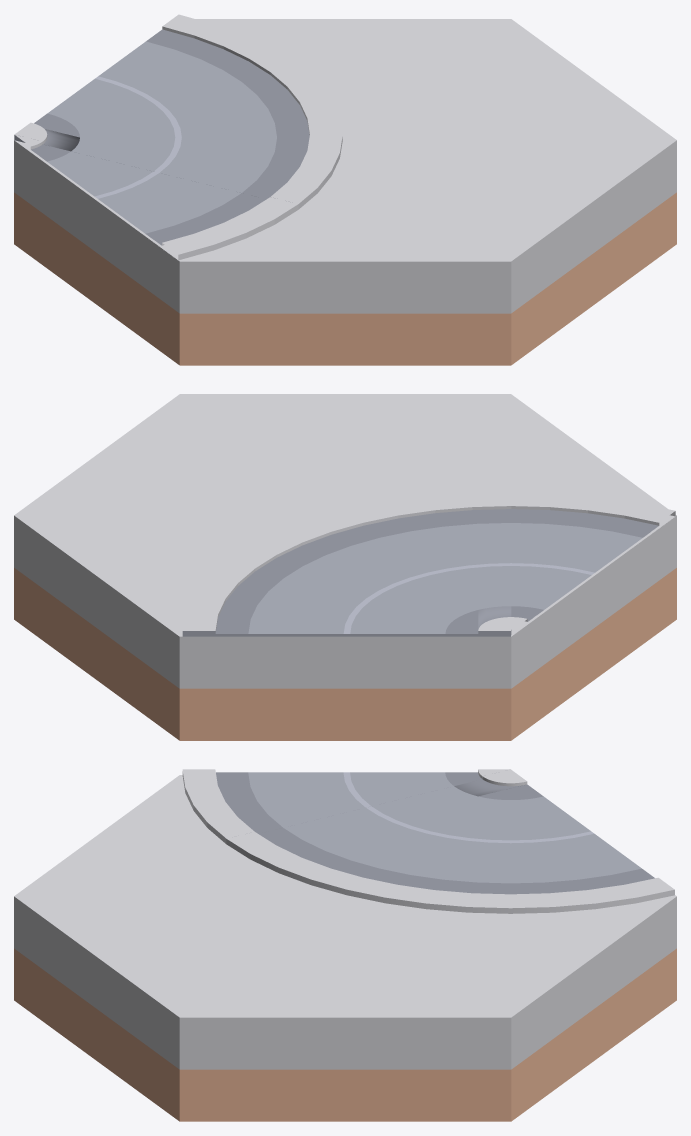
File: hard_curved_road_high.fbx
3 views of the same model, one above another, from view 1: azimuth 30°, elevation 25°; view 2: azimuth 150°, elevation 25°; view 3: azimuth 270°, elevation 25° (orthographic).
Parts seen in each view (by area): view 1: pavement_high.001, road_bend, road_bend.001; view 2: pavement_high.001, road_bend, road_bend.001; view 3: pavement_high.001, road_bend, road_bend.001.
Part boxes in pixels (box(x1,y1,x2,y2)): pavement_high.001: box(14, 19, 676, 365); road_bend: box(14, 14, 342, 209); road_bend.001: box(14, 134, 298, 260); pavement_high.001: box(14, 394, 676, 740); road_bend: box(182, 492, 511, 636); road_bend.001: box(511, 492, 675, 630); pavement_high.001: box(14, 775, 676, 1121); road_bend: box(226, 769, 674, 913); road_bend.001: box(182, 769, 510, 843).
Bounding box in the file's own units: 100 × 21.09 × 115.
